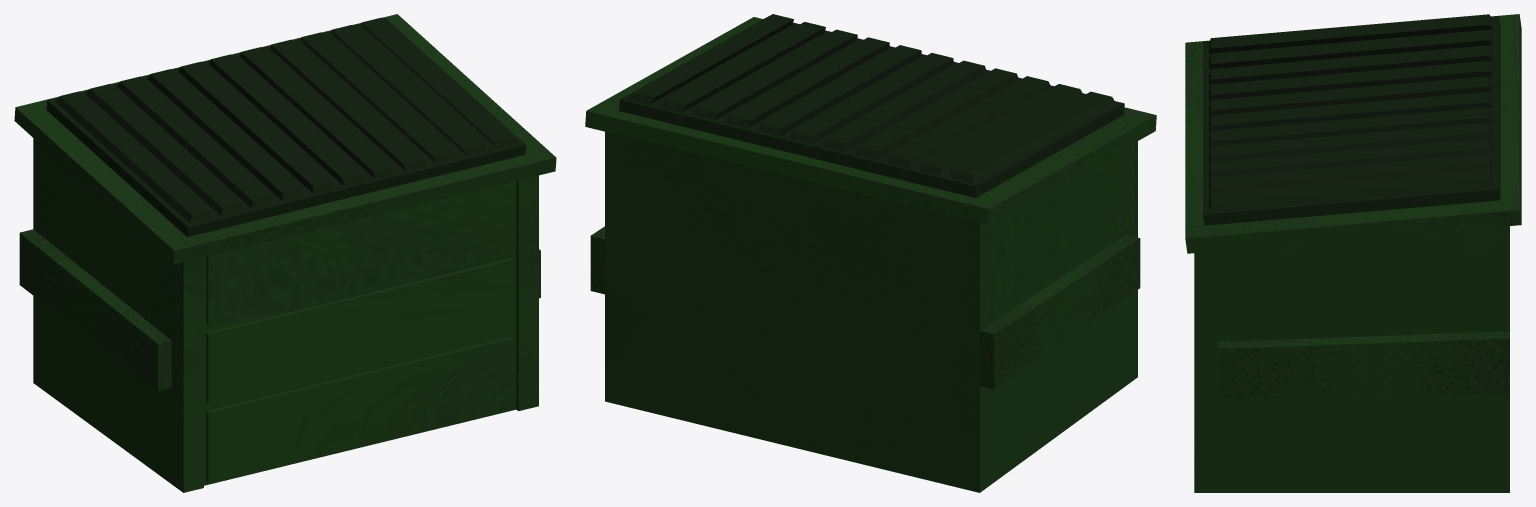
The model's file is dumpster.fbx.
The picture shows the model from 3 angles, left to right: view 1: azimuth 30°, elevation 25°; view 2: azimuth 150°, elevation 25°; view 3: azimuth 270°, elevation 25°; orthographic projection. The views are drawn at different scales.
Visible parts, largest first — view 1: Cube.010; view 2: Cube.010; view 3: Cube.010.
Boxes of the visible parts, x1,y1,x2,y2 form: Cube.010: (14, 14, 556, 492); Cube.010: (585, 14, 1156, 492); Cube.010: (1185, 14, 1521, 492).
Size of the model in its own units: 111 by 80.11 by 80.07.
Materials: 1 (1 with a texture image).
